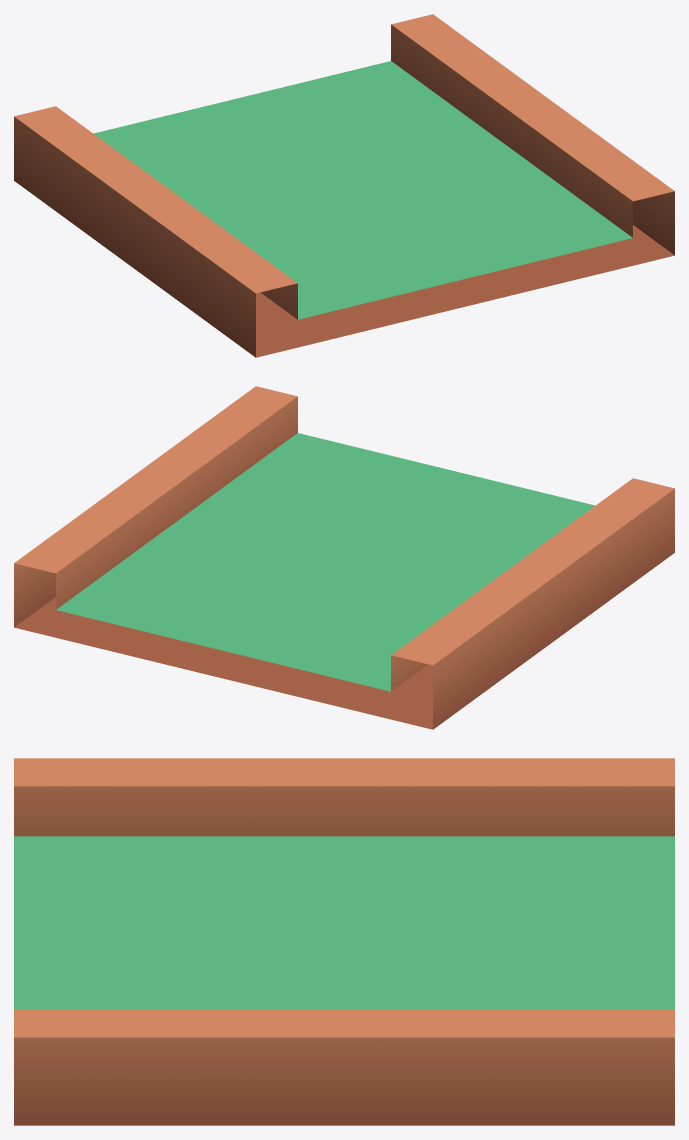
File: spline-default.glb
3 views of the same model, one above another, from view 1: azimuth 30°, elevation 25°; view 2: azimuth 150°, elevation 25°; view 3: azimuth 270°, elevation 25° (orthographic). The views are drawn at different scales.
Parts seen in each view (by area): view 1: spline-default; view 2: spline-default; view 3: spline-default.
Boxes of the visible parts, box(x1,y1,x2,y2) form: spline-default: box(14, 14, 674, 357); spline-default: box(14, 386, 674, 729); spline-default: box(14, 758, 674, 1125).
Bounding box in the file's own units: 0.9999 × 0.1467 × 0.9999.
1 material, 1 textured.
